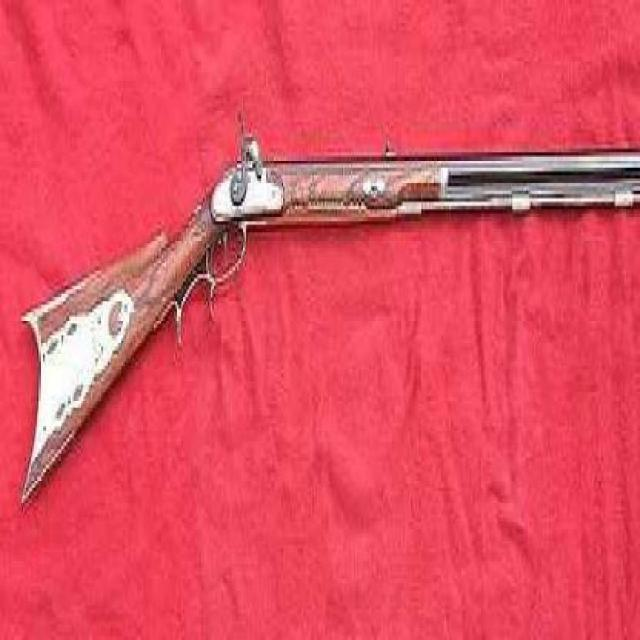weapon: (13, 126, 640, 508)
